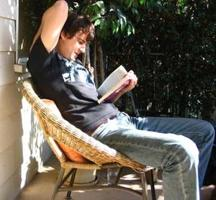person: (27, 1, 215, 200)
